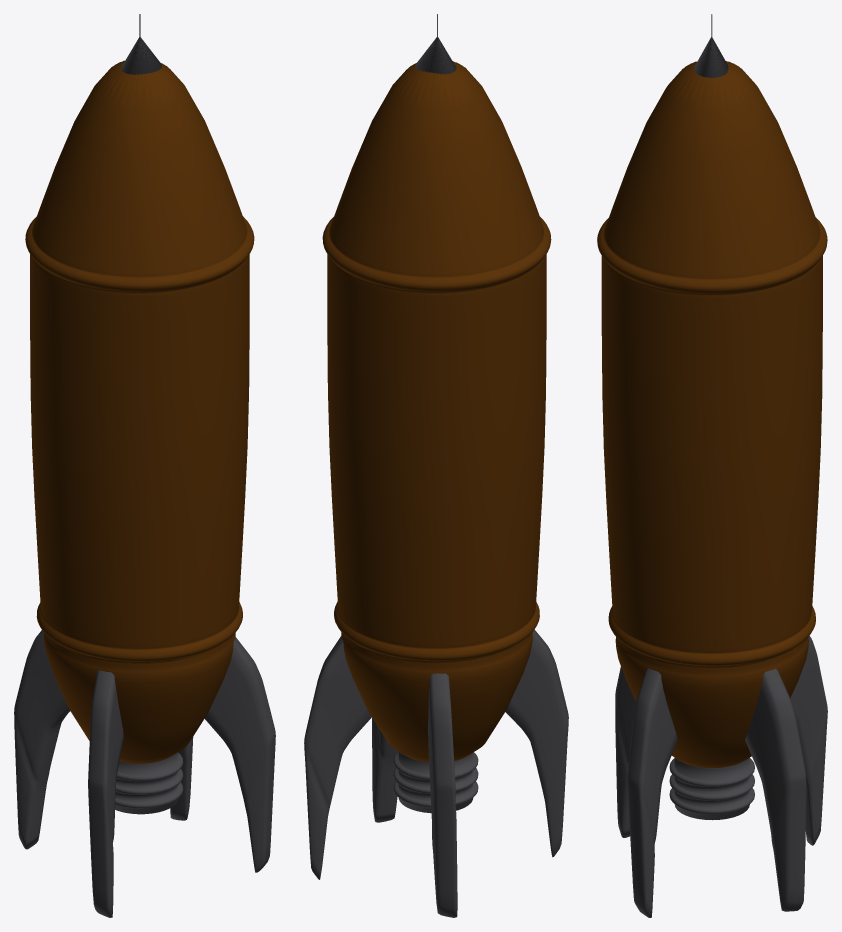
Rendered from cohete.fbx.
3 renders of one model, left to right at view 1: azimuth 30°, elevation 25°; view 2: azimuth 150°, elevation 25°; view 3: azimuth 270°, elevation 25°, orthographic.
Visible parts, largest first — view 1: Cilindro, Cubo, Cilindro.001, Cilindro.002; view 2: Cilindro, Cubo, Cilindro.001, Cilindro.002; view 3: Cilindro, Cubo, Cilindro.001, Cilindro.002.
Boxes of the visible parts, <box> form: Cilindro: <box>25,60,254,763</box>; Cubo: <box>14,630,275,917</box>; Cilindro.001: <box>115,752,183,814</box>; Cilindro.002: <box>121,37,161,74</box>; Cilindro: <box>322,61,551,762</box>; Cubo: <box>304,629,568,917</box>; Cilindro.001: <box>393,751,478,813</box>; Cilindro.002: <box>415,37,456,74</box>; Cilindro: <box>597,61,827,767</box>; Cubo: <box>615,636,827,917</box>; Cilindro.001: <box>669,757,754,820</box>; Cilindro.002: <box>694,37,728,77</box>.
Size of the model in its own units: 208 by 852 by 207.
